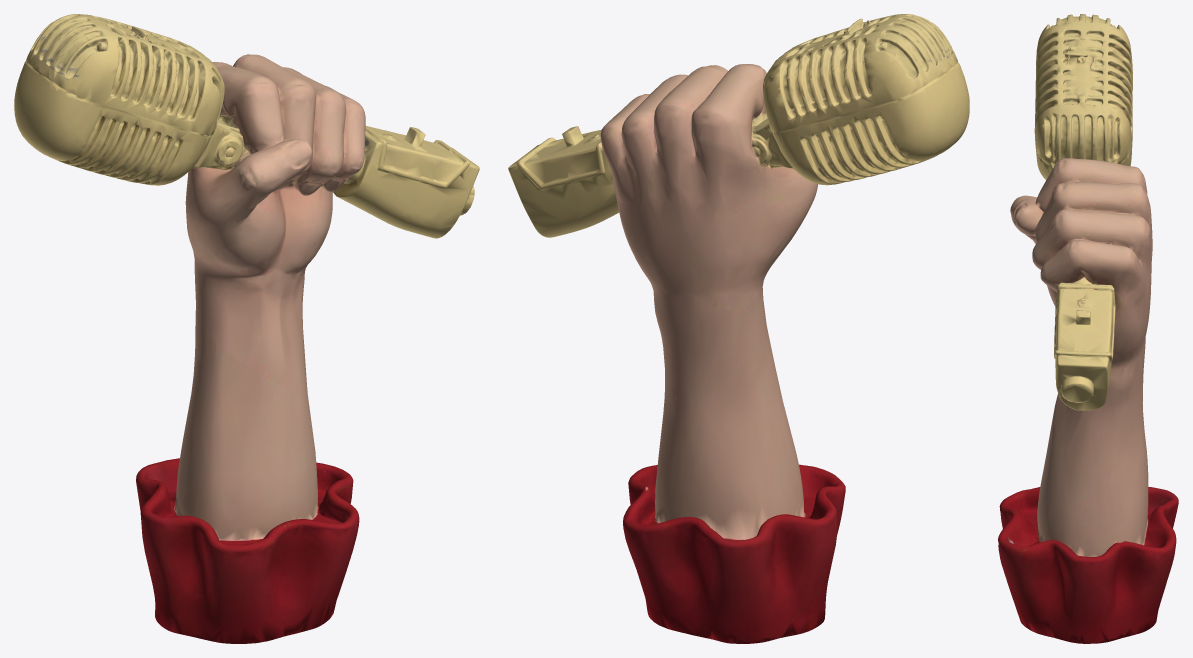
File: mic-hand-d.glb
3 views of the same model, side by side, from view 1: azimuth 30°, elevation 25°; view 2: azimuth 150°, elevation 25°; view 3: azimuth 270°, elevation 25° (orthographic). The views are drawn at different scales.
Size of the model in its own units: 1.4 by 1.9 by 0.5916.
Materials: 1 (1 with a texture image).
